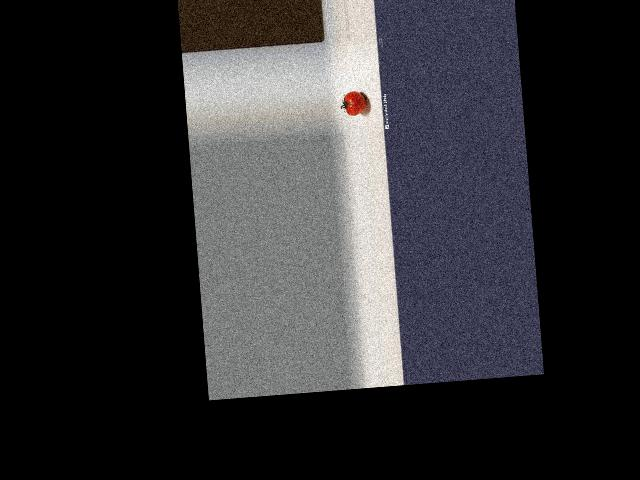tomato: (343, 90, 367, 115)
